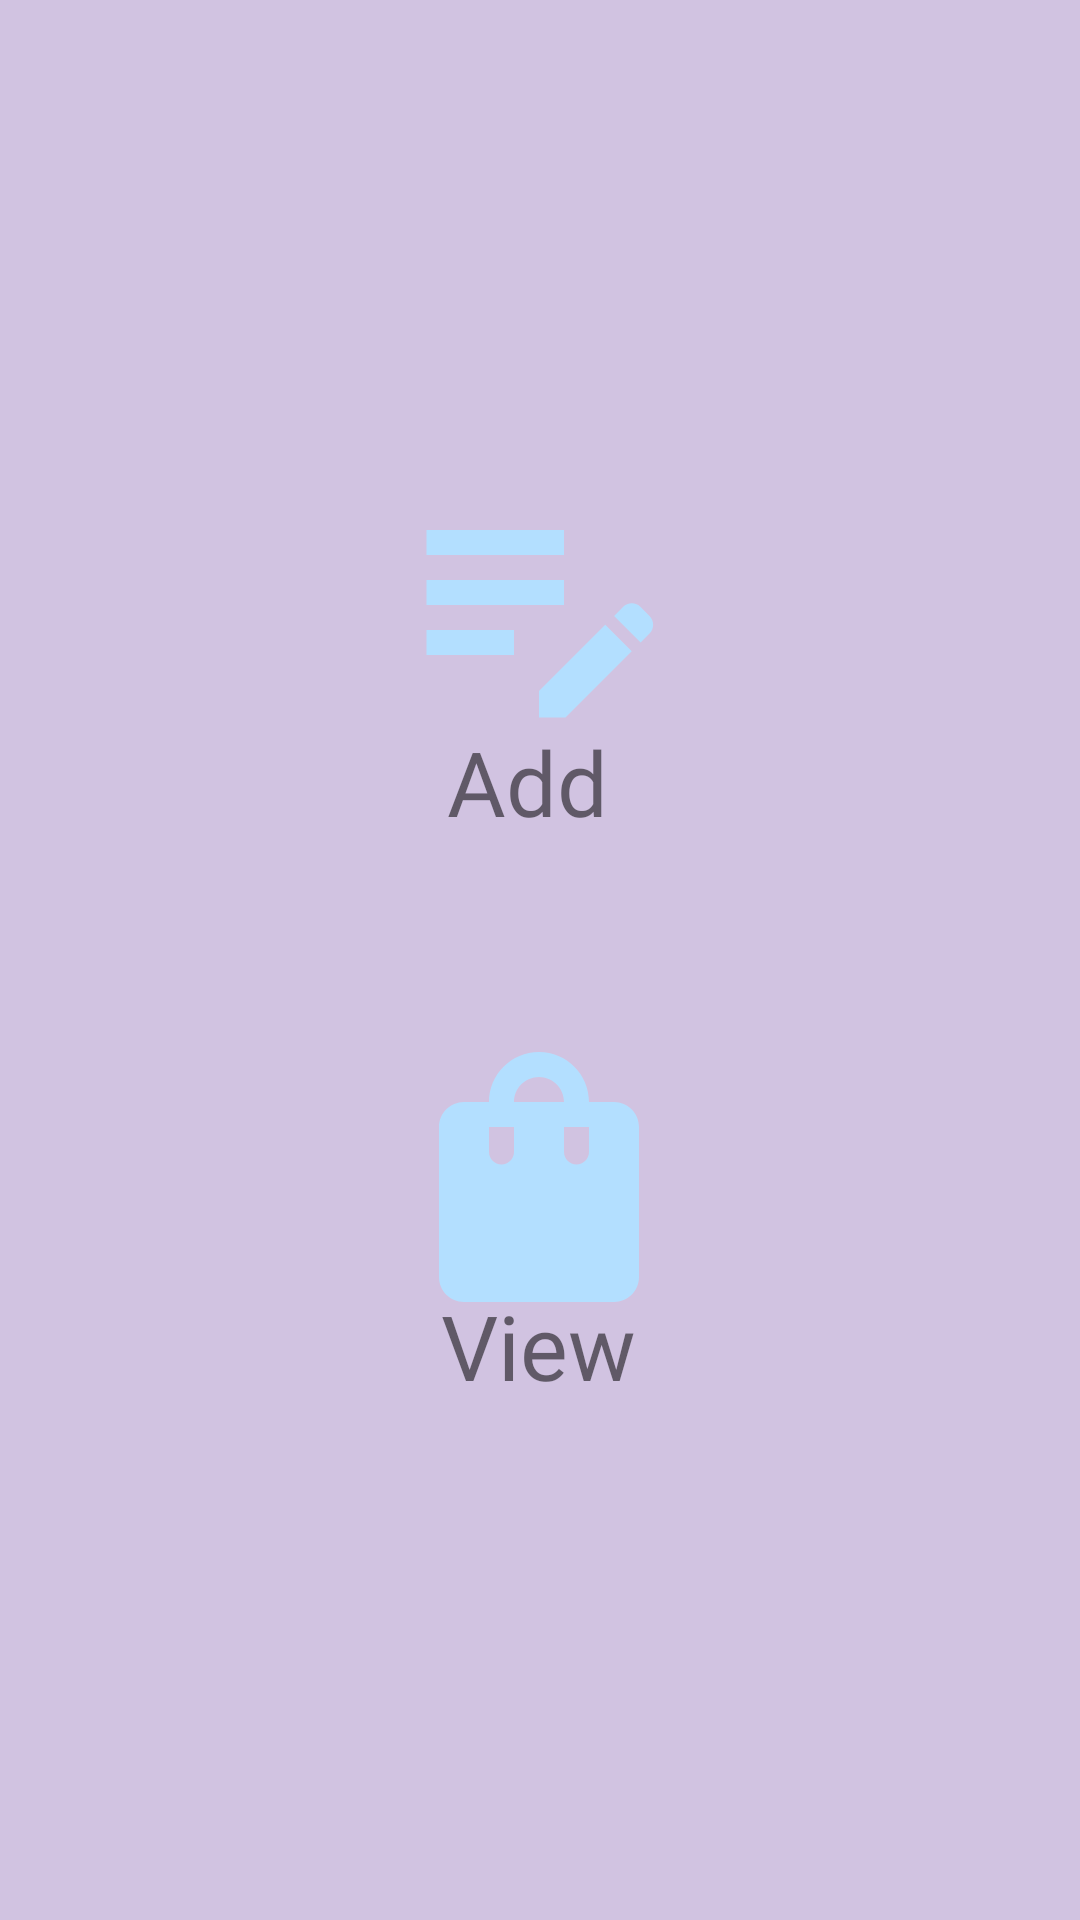

Where icons sit on this 1080 x 1920 app screen, as box=[x1, y1, x2, y2]:
Add Product: box=[427, 530, 653, 717]
